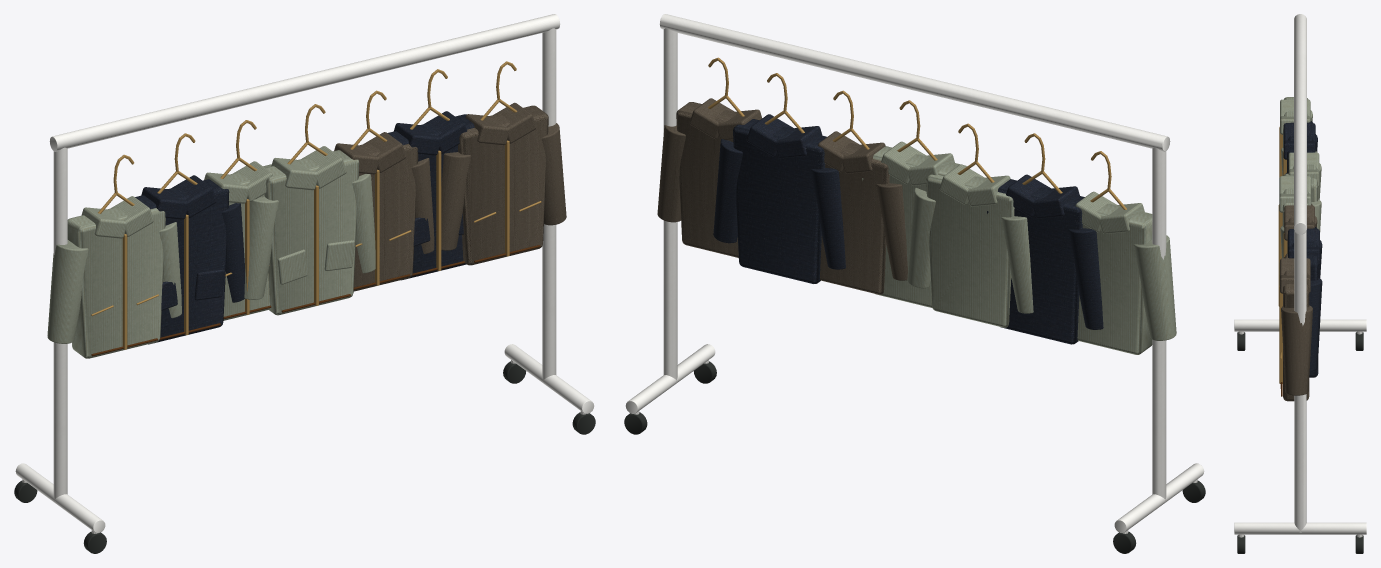
Rendered from willow_clothing_rack.glb.
3 renders of one model, left to right at view 1: azimuth 30°, elevation 25°; view 2: azimuth 150°, elevation 25°; view 3: azimuth 270°, elevation 25°, orthographic. The views are drawn at different scales.
Parts seen in each view (by area): view 1: willow_clothing_rack_willow_blackened_steel_pbr, willow_clothing_rack_willow_forest_corduroy_pbr, willow_clothing_rack_willow_olive_corduroy_pbr, willow_clothing_rack_willow_cream_fleece_pbr, willow_clothing_rack_willow_dark_denim_pbr, willow_clothing_rack_willow_tan_fleece_pbr, willow_clothing_rack_willow_aged_brass_pbr, willow_clothing_rack_willow_rust_corduroy_pbr, willow_clothing_rack_willow_rubber_pbr, willow_clothing_rack_willow_brown_leather_pbr; view 2: willow_clothing_rack_willow_dark_denim_pbr, willow_clothing_rack_willow_blackened_steel_pbr, willow_clothing_rack_willow_rust_corduroy_pbr, willow_clothing_rack_willow_olive_corduroy_pbr, willow_clothing_rack_willow_tan_fleece_pbr, willow_clothing_rack_willow_cream_fleece_pbr, willow_clothing_rack_willow_forest_corduroy_pbr, willow_clothing_rack_willow_aged_brass_pbr, willow_clothing_rack_willow_rubber_pbr; view 3: willow_clothing_rack_willow_blackened_steel_pbr, willow_clothing_rack_willow_cream_fleece_pbr, willow_clothing_rack_willow_dark_denim_pbr, willow_clothing_rack_willow_aged_brass_pbr, willow_clothing_rack_willow_rust_corduroy_pbr, willow_clothing_rack_willow_forest_corduroy_pbr, willow_clothing_rack_willow_rubber_pbr, willow_clothing_rack_willow_olive_corduroy_pbr, willow_clothing_rack_willow_tan_fleece_pbr.
Boxes of the visible parts, left/top/right/bottom form: willow_clothing_rack_willow_blackened_steel_pbr: left=15, top=14, right=594, bottom=533; willow_clothing_rack_willow_forest_corduroy_pbr: left=244, top=146, right=375, bottom=315; willow_clothing_rack_willow_olive_corduroy_pbr: left=47, top=196, right=181, bottom=358; willow_clothing_rack_willow_cream_fleece_pbr: left=441, top=102, right=566, bottom=265; willow_clothing_rack_willow_dark_denim_pbr: left=135, top=111, right=474, bottom=344; willow_clothing_rack_willow_tan_fleece_pbr: left=334, top=132, right=434, bottom=291; willow_clothing_rack_willow_aged_brass_pbr: left=91, top=61, right=541, bottom=349; willow_clothing_rack_willow_rust_corduroy_pbr: left=204, top=161, right=272, bottom=320; willow_clothing_rack_willow_rubber_pbr: left=14, top=361, right=595, bottom=553; willow_clothing_rack_willow_brown_leather_pbr: left=91, top=245, right=540, bottom=356; willow_clothing_rack_willow_dark_denim_pbr: left=713, top=114, right=1103, bottom=344; willow_clothing_rack_willow_blackened_steel_pbr: left=625, top=14, right=1204, bottom=533; willow_clothing_rack_willow_rust_corduroy_pbr: left=907, top=164, right=1033, bottom=327; willow_clothing_rack_willow_olive_corduroy_pbr: left=1075, top=191, right=1176, bottom=354; willow_clothing_rack_willow_tan_fleece_pbr: left=818, top=131, right=907, bottom=294; willow_clothing_rack_willow_cream_fleece_pbr: left=657, top=98, right=762, bottom=257; willow_clothing_rack_willow_forest_corduroy_pbr: left=862, top=141, right=966, bottom=307; willow_clothing_rack_willow_aged_brass_pbr: left=708, top=57, right=1126, bottom=209; willow_clothing_rack_willow_rubber_pbr: left=624, top=361, right=1205, bottom=553; willow_clothing_rack_willow_blackened_steel_pbr: left=1234, top=14, right=1366, bottom=537; willow_clothing_rack_willow_cream_fleece_pbr: left=1280, top=256, right=1312, bottom=401; willow_clothing_rack_willow_dark_denim_pbr: left=1283, top=121, right=1322, bottom=377; willow_clothing_rack_willow_aged_brass_pbr: left=1278, top=127, right=1287, bottom=383; willow_clothing_rack_willow_rust_corduroy_pbr: left=1288, top=151, right=1321, bottom=231; willow_clothing_rack_willow_forest_corduroy_pbr: left=1279, top=173, right=1311, bottom=285; willow_clothing_rack_willow_rubber_pbr: left=1237, top=332, right=1363, bottom=553; willow_clothing_rack_willow_olive_corduroy_pbr: left=1280, top=97, right=1312, bottom=175; willow_clothing_rack_willow_tan_fleece_pbr: left=1284, top=204, right=1317, bottom=256.
Bounding box in the file's own units: 2.91 × 2.11 × 0.76.
Materials: 10 (8 with a texture image).
